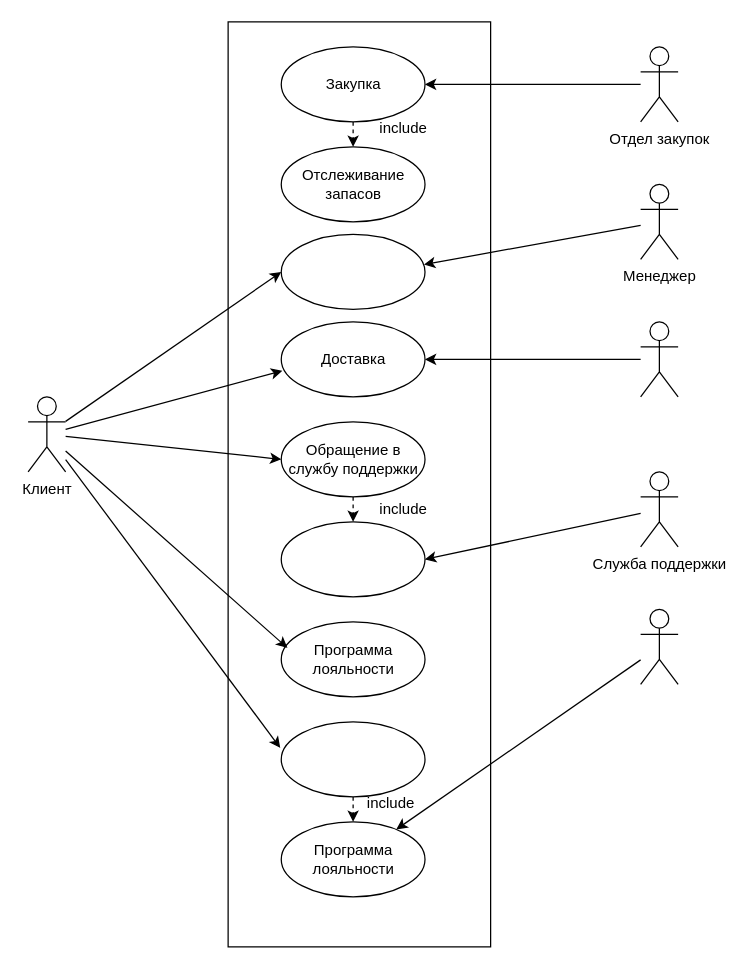
The diagram is 748 pixels wide and 969 high, and some of its shapes have lost their labels. The shapes that lost their labels are listed below. From the top down, each one's centre as x and y in pixels, then its label:
the point at 352,271: Покупка
the point at 658,359: Служба доставки
the point at 352,559: Возврат/обмен товара
the point at 658,646: Отдел пошива
the point at 352,759: Услуга индивидуального пошива
